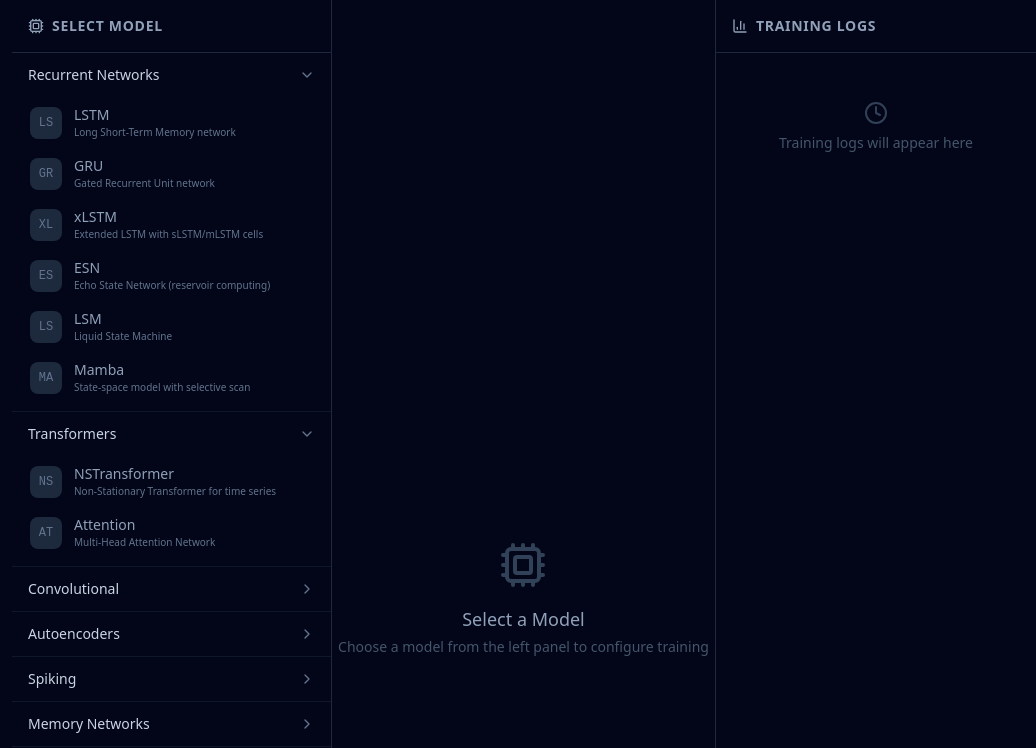
Test: TrainingTab › should select a model
// LSTM is in Recurrent Networks (default expanded)
What coordinates should you click on to do the following:
click the text "LSTM"
I would click on:
 (92, 114)
Its box is x1=74 y1=105 x2=110 y2=124.
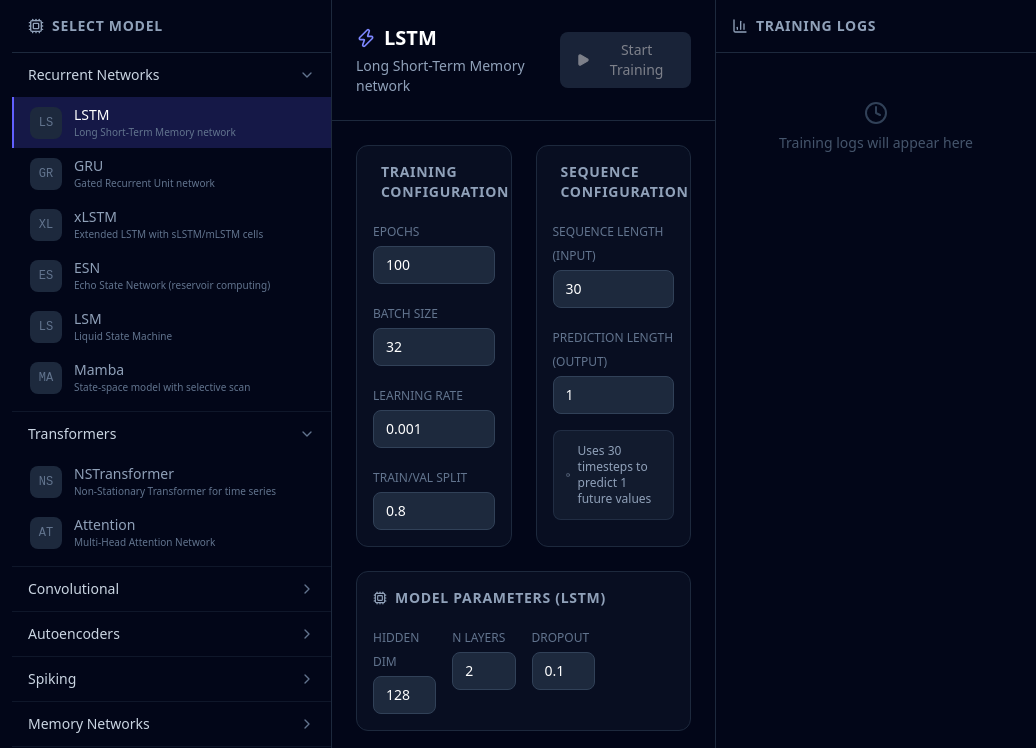
Result: the button "Start Training" is shown at x1=560 y1=32 x2=691 y2=88
